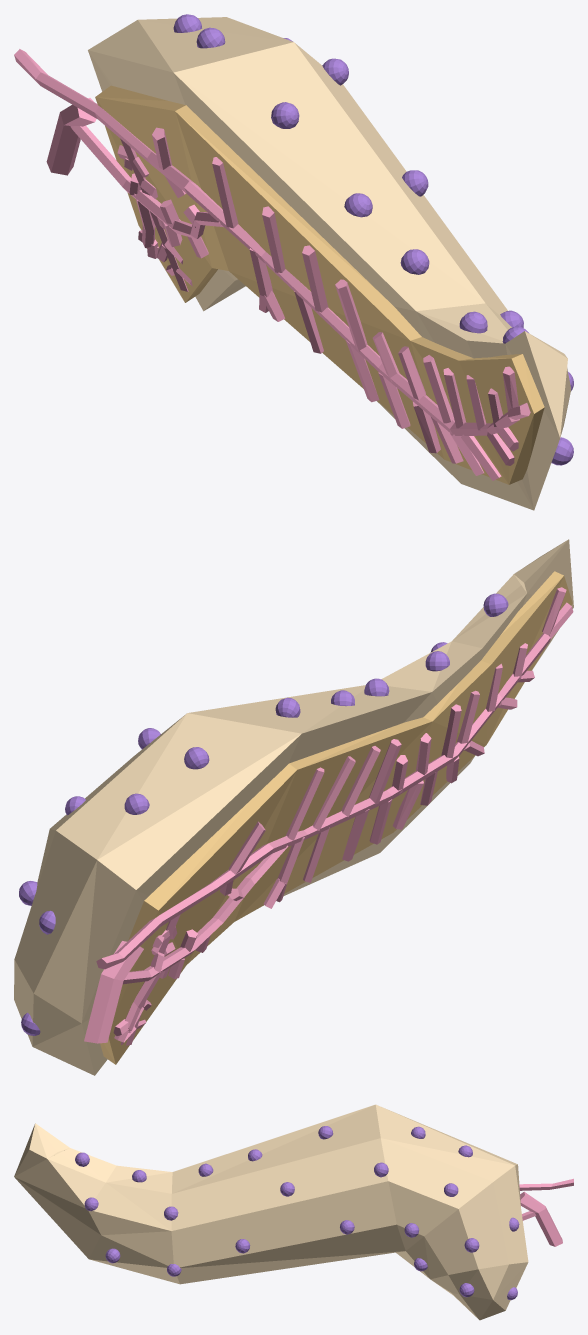
File: pancreas.glb
3 renders of one model, top to bottom at view 1: azimuth 30°, elevation 25°; view 2: azimuth 150°, elevation 25°; view 3: azimuth 270°, elevation 25°, orthographic. The views are drawn at different scales.
Visible parts, largest first — view 1: mesh_541560683_material_18___16680_0, mesh_1699897658_material_19___16676_0, mesh_1953471368_material_7___16676_0, mesh_746704804_material_7___16676_0, mesh_271594735_material_7___16676_0, mesh_1573366256_material_7___16676_0, mesh_298831665_material_7___16676_0, mesh_872085001_material_7___16676_0, mesh_1226439944_material_7___16676_0, mesh_1591396726_material_7___16676_0, mesh_1117002613_material_7___16676_0, mesh_274327228_material_7___16676_0 (+6 smaller); view 2: mesh_541560683_material_18___16680_0, mesh_1699897658_material_19___16676_0, mesh_1953471368_material_7___16676_0, mesh_271594735_material_7___16676_0, mesh_746704804_material_7___16676_0, mesh_1573366256_material_7___16676_0, mesh_1117002613_material_7___16676_0, mesh_298831665_material_7___16676_0, mesh_872085001_material_7___16676_0, mesh_1341939789_material_7___16676_0; view 3: mesh_541560683_material_18___16680_0, mesh_271594735_material_7___16676_0, mesh_1953471368_material_7___16676_0.
Part boxes in pixels (bbox=[...]): mesh_541560683_material_18___16680_0: bbox=[88, 17, 570, 510]; mesh_1699897658_material_19___16676_0: bbox=[95, 85, 544, 484]; mesh_1953471368_material_7___16676_0: bbox=[14, 49, 519, 435]; mesh_746704804_material_7___16676_0: bbox=[70, 125, 223, 239]; mesh_271594735_material_7___16676_0: bbox=[46, 98, 96, 175]; mesh_1573366256_material_7___16676_0: bbox=[335, 279, 367, 351]; mesh_298831665_material_7___16676_0: bbox=[302, 245, 328, 312]; mesh_872085001_material_7___16676_0: bbox=[212, 157, 238, 228]; mesh_1226439944_material_7___16676_0: bbox=[423, 355, 454, 423]; mesh_1591396726_material_7___16676_0: bbox=[120, 138, 188, 291]; mesh_1117002613_material_7___16676_0: bbox=[262, 206, 285, 272]; mesh_274327228_material_7___16676_0: bbox=[398, 346, 425, 400]; mesh_541560683_material_18___16680_0: bbox=[14, 539, 573, 1075]; mesh_1699897658_material_19___16676_0: bbox=[100, 571, 572, 1064]; mesh_1953471368_material_7___16676_0: bbox=[96, 633, 550, 969]; mesh_271594735_material_7___16676_0: bbox=[84, 941, 143, 1043]; mesh_746704804_material_7___16676_0: bbox=[123, 845, 288, 984]; mesh_1573366256_material_7___16676_0: bbox=[369, 739, 401, 804]; mesh_1117002613_material_7___16676_0: bbox=[313, 756, 355, 830]; mesh_298831665_material_7___16676_0: bbox=[341, 746, 380, 816]; mesh_872085001_material_7___16676_0: bbox=[286, 767, 324, 840]; mesh_1341939789_material_7___16676_0: bbox=[229, 821, 265, 874]; mesh_541560683_material_18___16680_0: bbox=[14, 1104, 528, 1320]; mesh_271594735_material_7___16676_0: bbox=[520, 1191, 562, 1246]; mesh_1953471368_material_7___16676_0: bbox=[519, 1178, 573, 1190].
Bounding box in the file's own units: 1.6 × 2.33 × 6.57.
